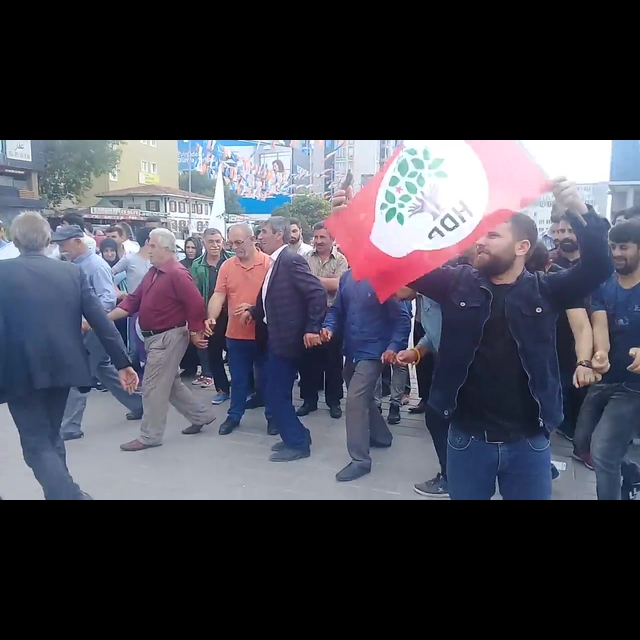HDP: (377, 149, 442, 220)
